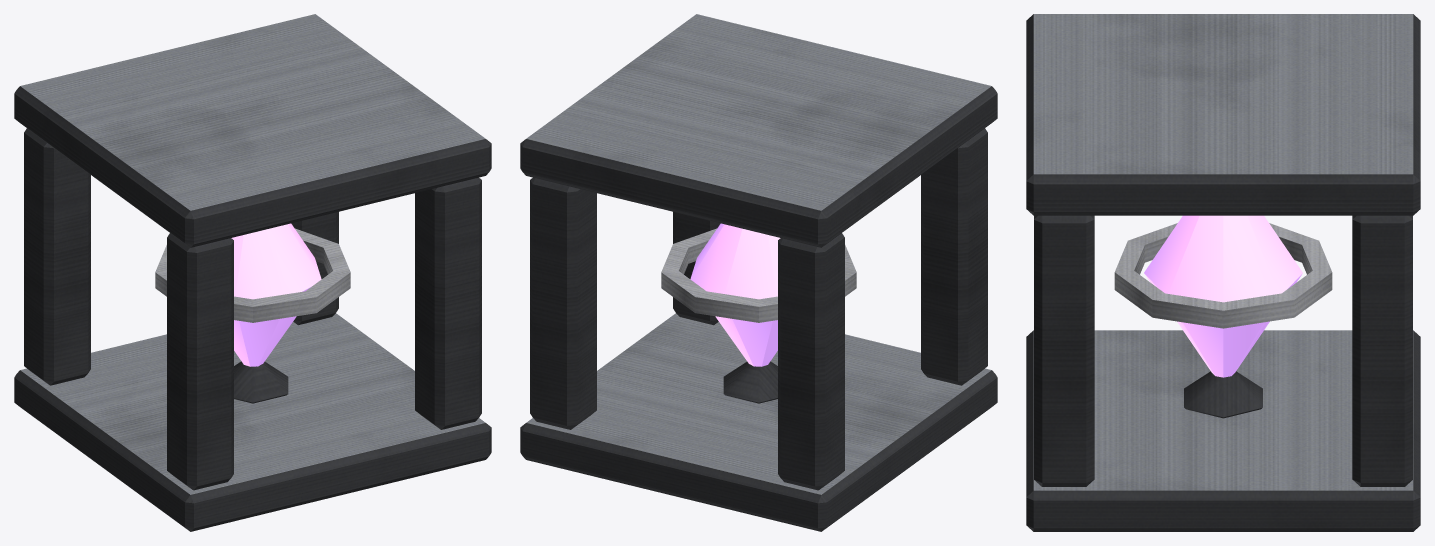
Rendered from R4X_CoreBooster_LOD1.glb.
3 views of the same model, side by side, from view 1: azimuth 30°, elevation 25°; view 2: azimuth 150°, elevation 25°; view 3: azimuth 270°, elevation 25° (orthographic). The views are drawn at different scales.
Visible parts, largest first — view 1: R4X_CoreBooster_LOD1; view 2: R4X_CoreBooster_LOD1; view 3: R4X_CoreBooster_LOD1.
Boxes of the visible parts, bbox=[...] form: R4X_CoreBooster_LOD1: bbox=[14, 14, 491, 531]; R4X_CoreBooster_LOD1: bbox=[520, 14, 997, 531]; R4X_CoreBooster_LOD1: bbox=[1026, 14, 1420, 531].
Bounding box in the file's own units: 0.52 × 0.52 × 0.52.
4 materials, 3 textured.
